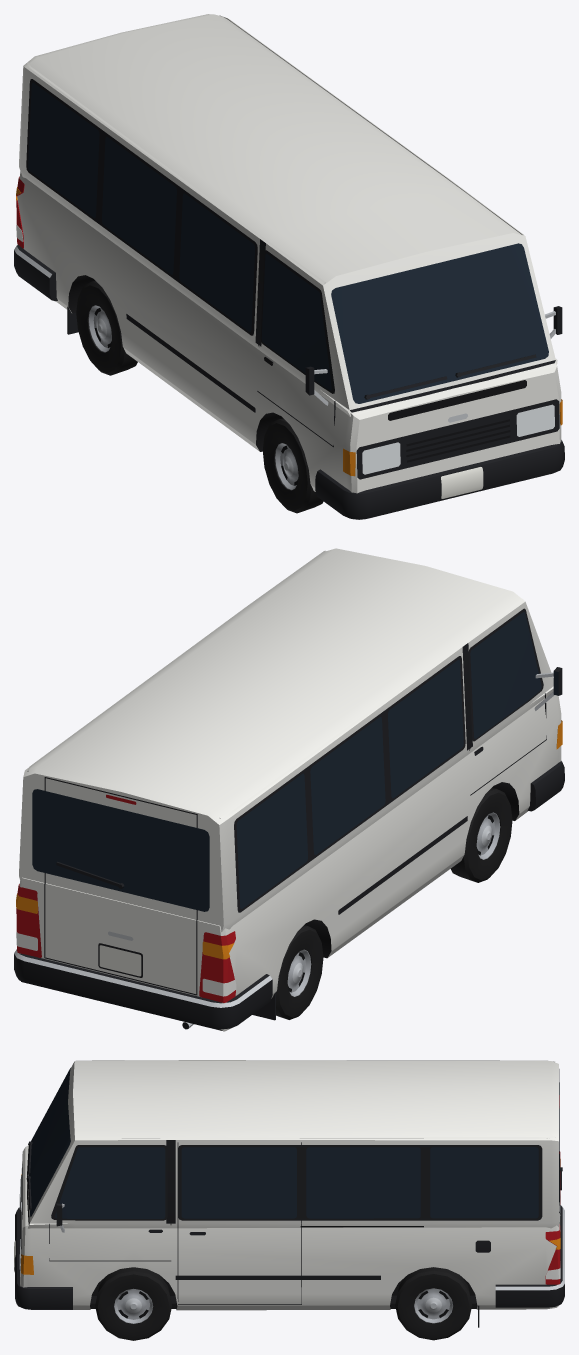
File: traffic_van.glb
3 views of the same model, one above another, from view 1: azimuth 30°, elevation 25°; view 2: azimuth 150°, elevation 25°; view 3: azimuth 270°, elevation 25° (orthographic). The views are drawn at different scales.
Parts seen in each view (by area): view 1: body, wheel_FR, wheel_RR; view 2: body, wheel_FR, wheel_RR; view 3: body, wheel_FL, wheel_RL.
Part boxes in pixels (x1,y1,x2,y2): body: [14, 14, 564, 519]; wheel_FR: [262, 418, 323, 513]; wheel_RR: [76, 281, 137, 375]; body: [14, 548, 564, 1031]; wheel_FR: [451, 788, 512, 882]; wheel_RR: [276, 925, 323, 1019]; body: [14, 1060, 564, 1327]; wheel_FL: [95, 1267, 171, 1340]; wheel_RL: [395, 1267, 471, 1340].
Size of the model in its own units: 2 by 1.98 by 4.72.
